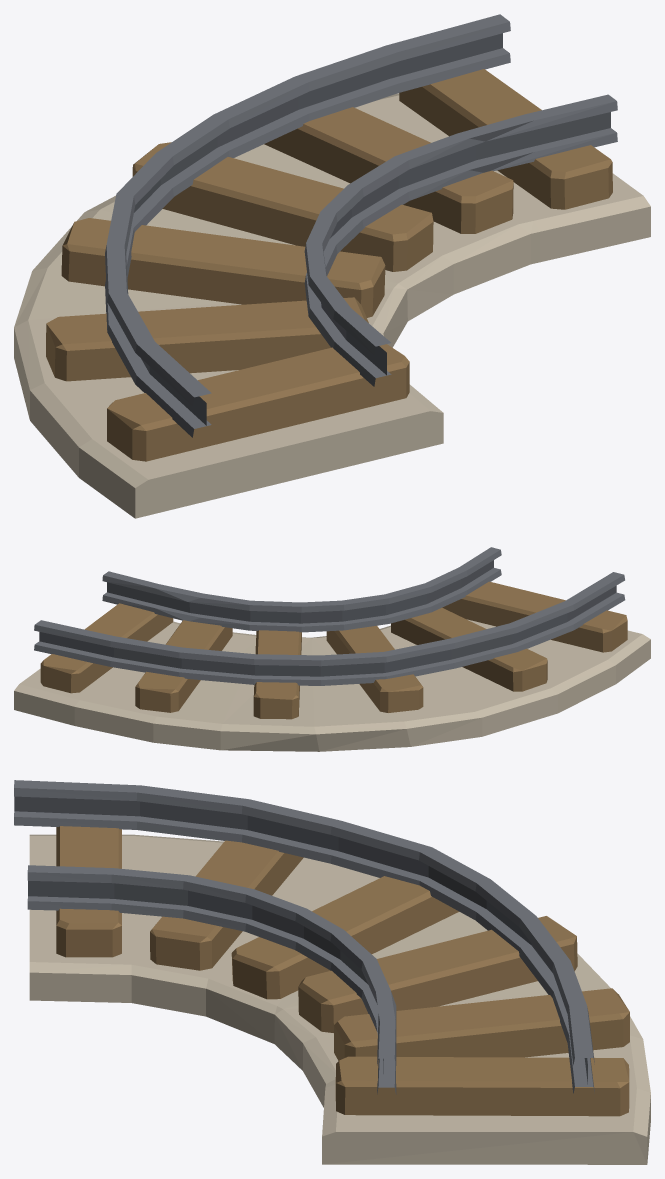
The model's file is 轨道弯曲.glb.
3 renders of one model, top to bottom at view 1: azimuth 30°, elevation 25°; view 2: azimuth 150°, elevation 25°; view 3: azimuth 270°, elevation 25°, orthographic. The views are drawn at different scales.
Visible parts, largest first — view 1: 轨道弯曲; view 2: 轨道弯曲; view 3: 轨道弯曲.
Part boxes in pixels (x1=…): 轨道弯曲: x1=14, y1=14, x2=650, y2=518; 轨道弯曲: x1=14, y1=547, x2=650, y2=751; 轨道弯曲: x1=14, y1=780, x2=650, y2=1164.
Bounding box in the file's own units: 8.53 × 1.39 × 7.6.
3 materials, 3 textured.
